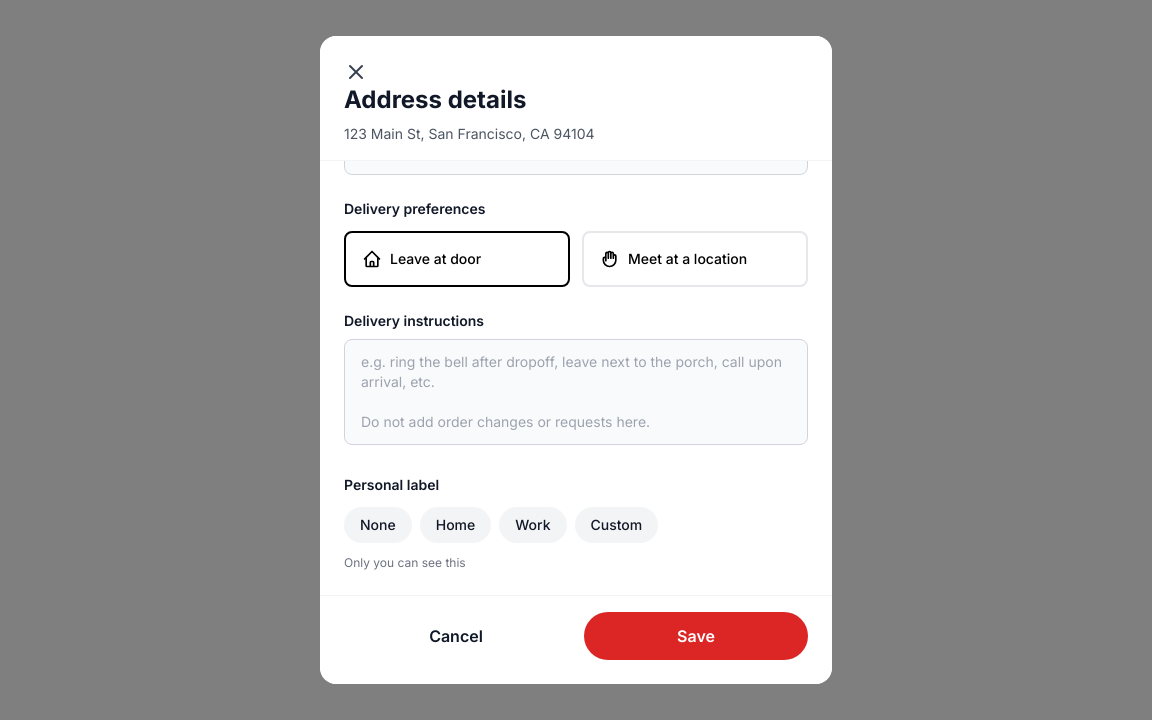
AddressDetailsModal › should show custom label input when Custom is selected
(page scrolled)
Click the button "Custom" at (616, 525), box [574,507,658,543]
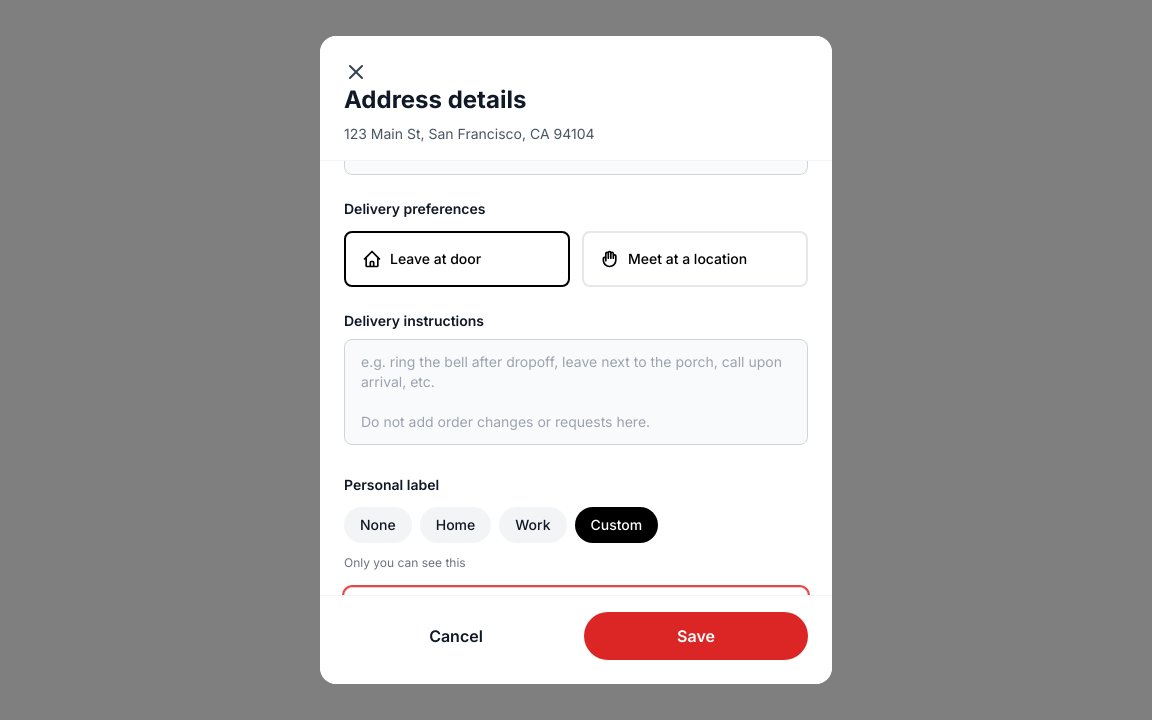
expect the field with placeholder "Enter custom label" is shown: met, box [344,587,808,637]
